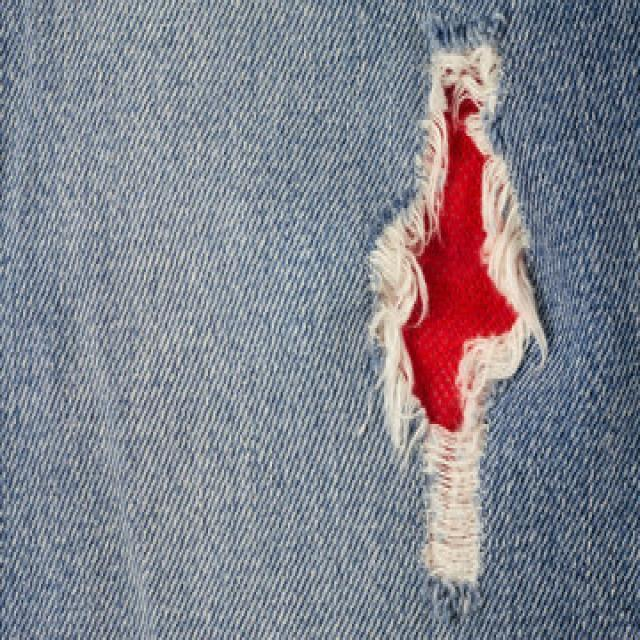Hole: (371, 44, 548, 590)
